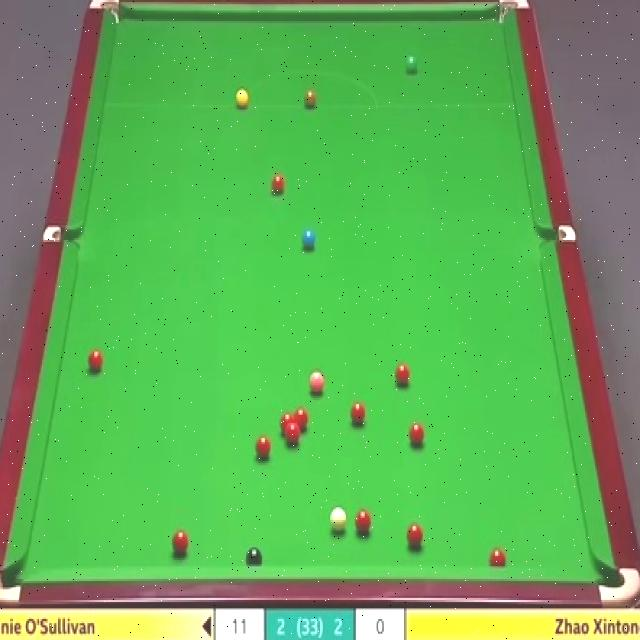black-ball: (245, 547, 262, 567)
blue-ball: (301, 227, 316, 252)
brown-ball: (302, 86, 317, 110)
green-ball: (403, 55, 419, 75)
pink-ball: (309, 367, 325, 395)
red-ball: (86, 347, 105, 376), (394, 362, 411, 392), (405, 523, 423, 551), (354, 508, 372, 536), (172, 529, 189, 556), (350, 400, 366, 428), (408, 419, 424, 446), (270, 172, 287, 197), (294, 408, 309, 434), (256, 435, 270, 460), (490, 548, 506, 568), (280, 412, 294, 434), (286, 426, 300, 446)
white-ball: (328, 502, 347, 536)
yellow-ball: (234, 88, 248, 109)
